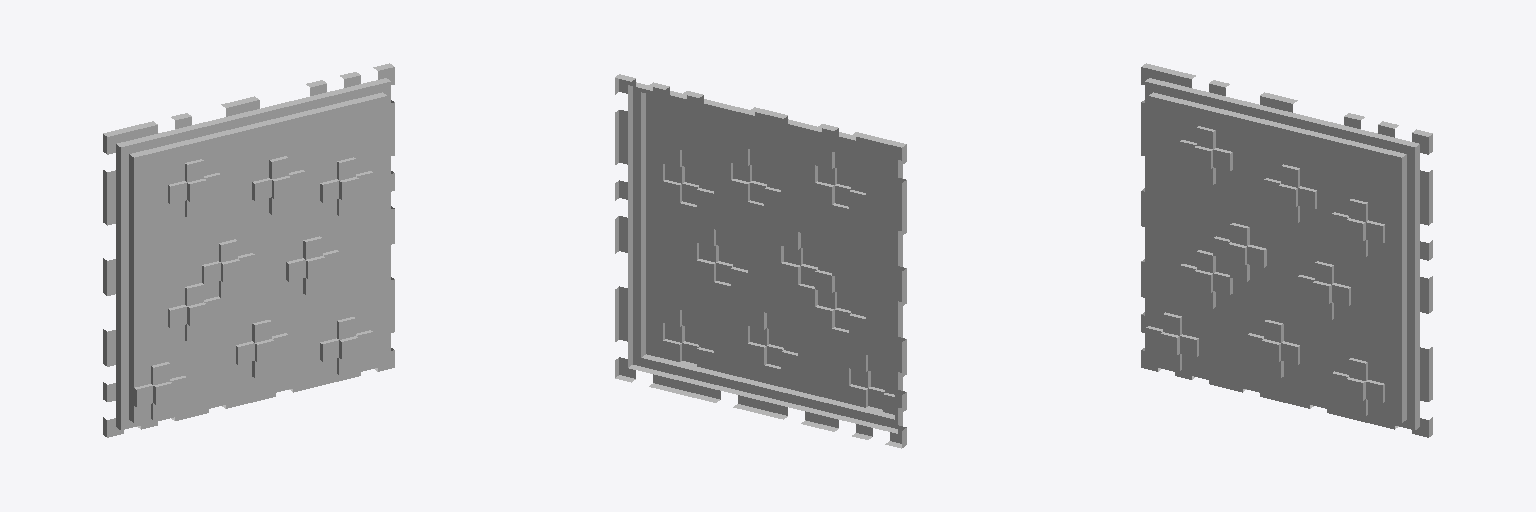
File: grama.obj
3 views of the same model, side by side, from view 1: azimuth 30°, elevation 25°; view 2: azimuth 150°, elevation 25°; view 3: azimuth 330°, elevation 25° (orthographic).
Visible parts, largest first — view 1: mesh_0; view 2: mesh_0; view 3: mesh_0.
Boxes of the visible parts, box(x1,y1,x2,y2) form: mesh_0: box(103, 63, 394, 437); mesh_0: box(615, 74, 906, 448); mesh_0: box(1141, 63, 1432, 437).
Size of the model in its own units: 3.4 by 3.4 by 0.4.